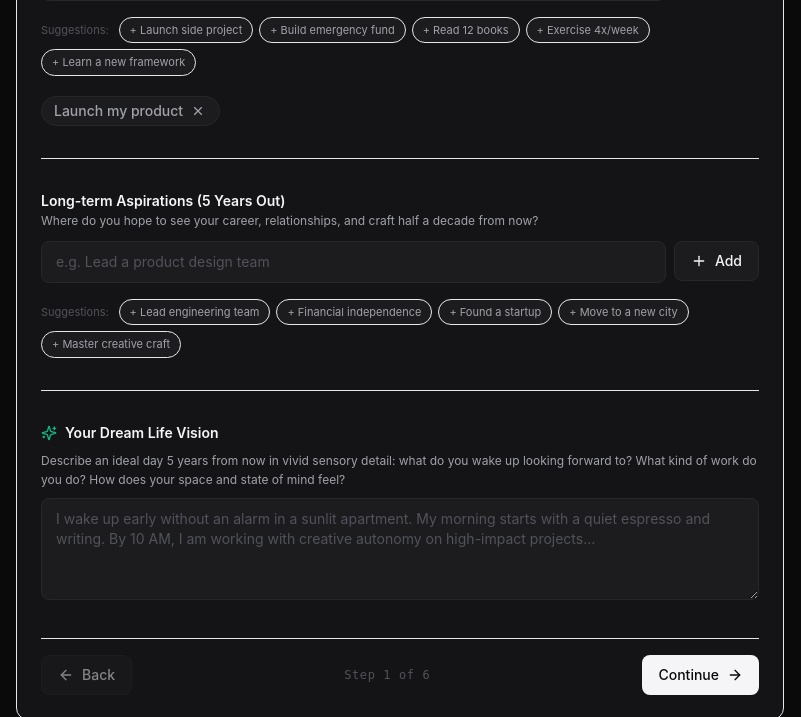
Test: OnboardingWizard Component › advances to step 2 when step 1 validation criteria are met
The image size is (801, 717).
(page scrolled)
Click the button with aria-label "continue to next step" at (701, 675), box [642,655,759,695]
(page scrolled)
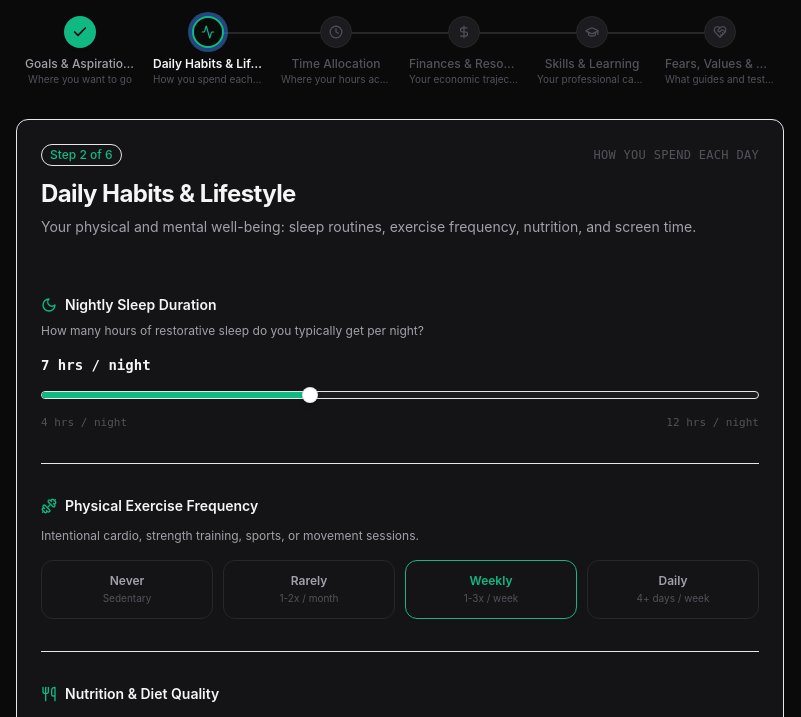
Expected: the text "Daily Habits & Lifestyle" is shown, [153,56,263,72]
Now the heading "Nightly Sleep Duration" is shown, box [65,295,217,315]
